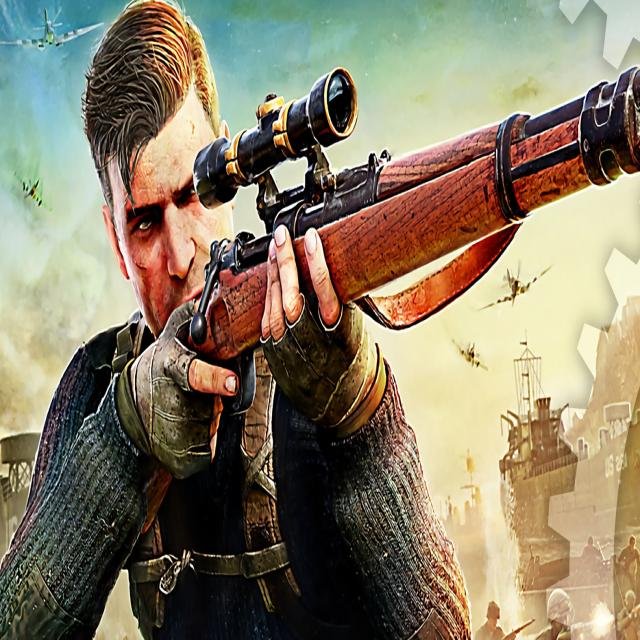Weapon: (195, 68, 640, 329)
